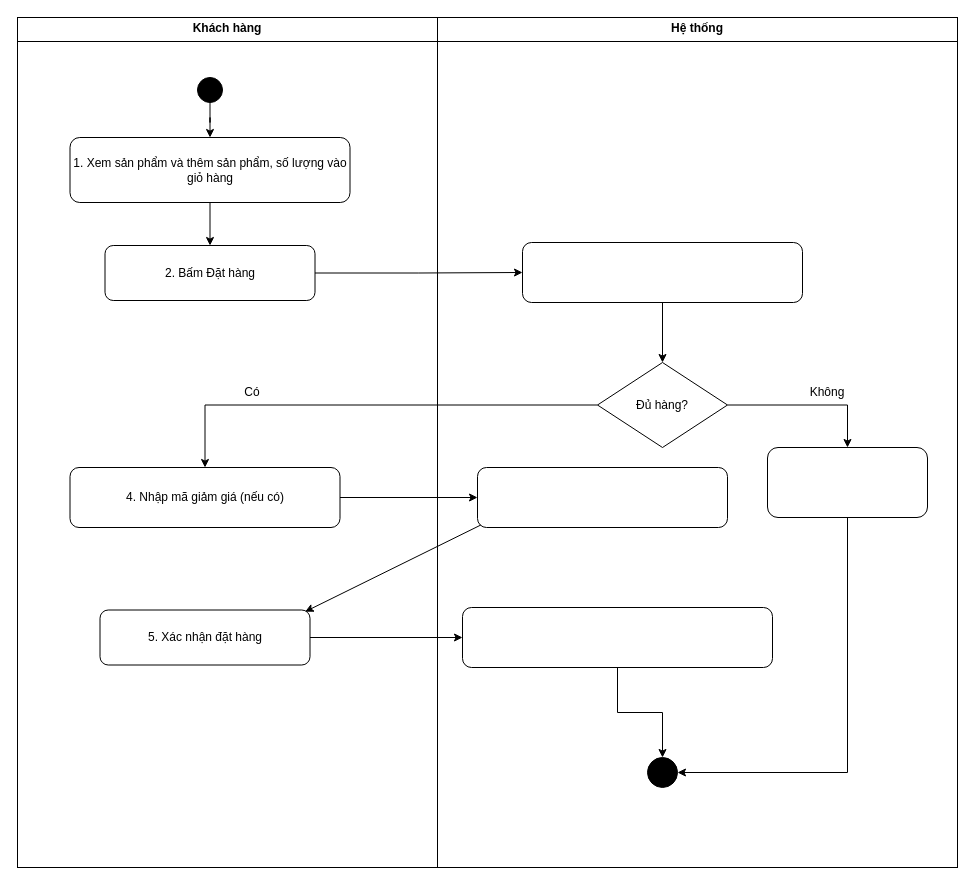
This 975x885 diagram has some shape labels left out. Here are the shapes that lost their labels. From the top down, the centre of each, then its label:
the point at 662,272: 3. Kiểm tra tồn kho từng sản phẩm trong giỏ
the point at 602,497: Áp dụng mức giảm tương ứng
the point at 847,482: Thông báo sản phẩm không đủ hàng\nKhông tạo đơn
the point at 617,637: 6. Tạo đơn hàng và thông báo đặt hàng thành công
